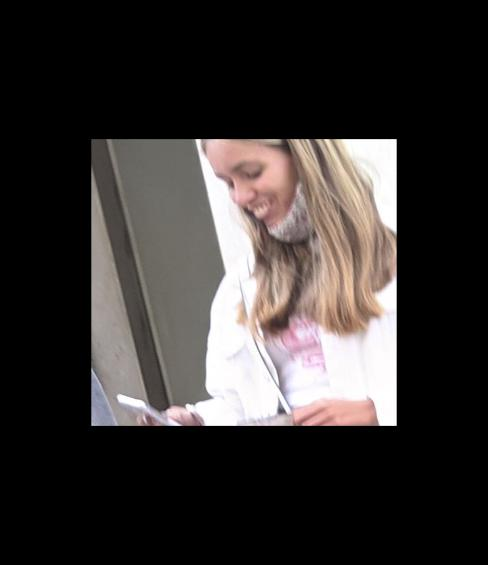mask_weared_incorrect: (206, 151, 323, 237)
